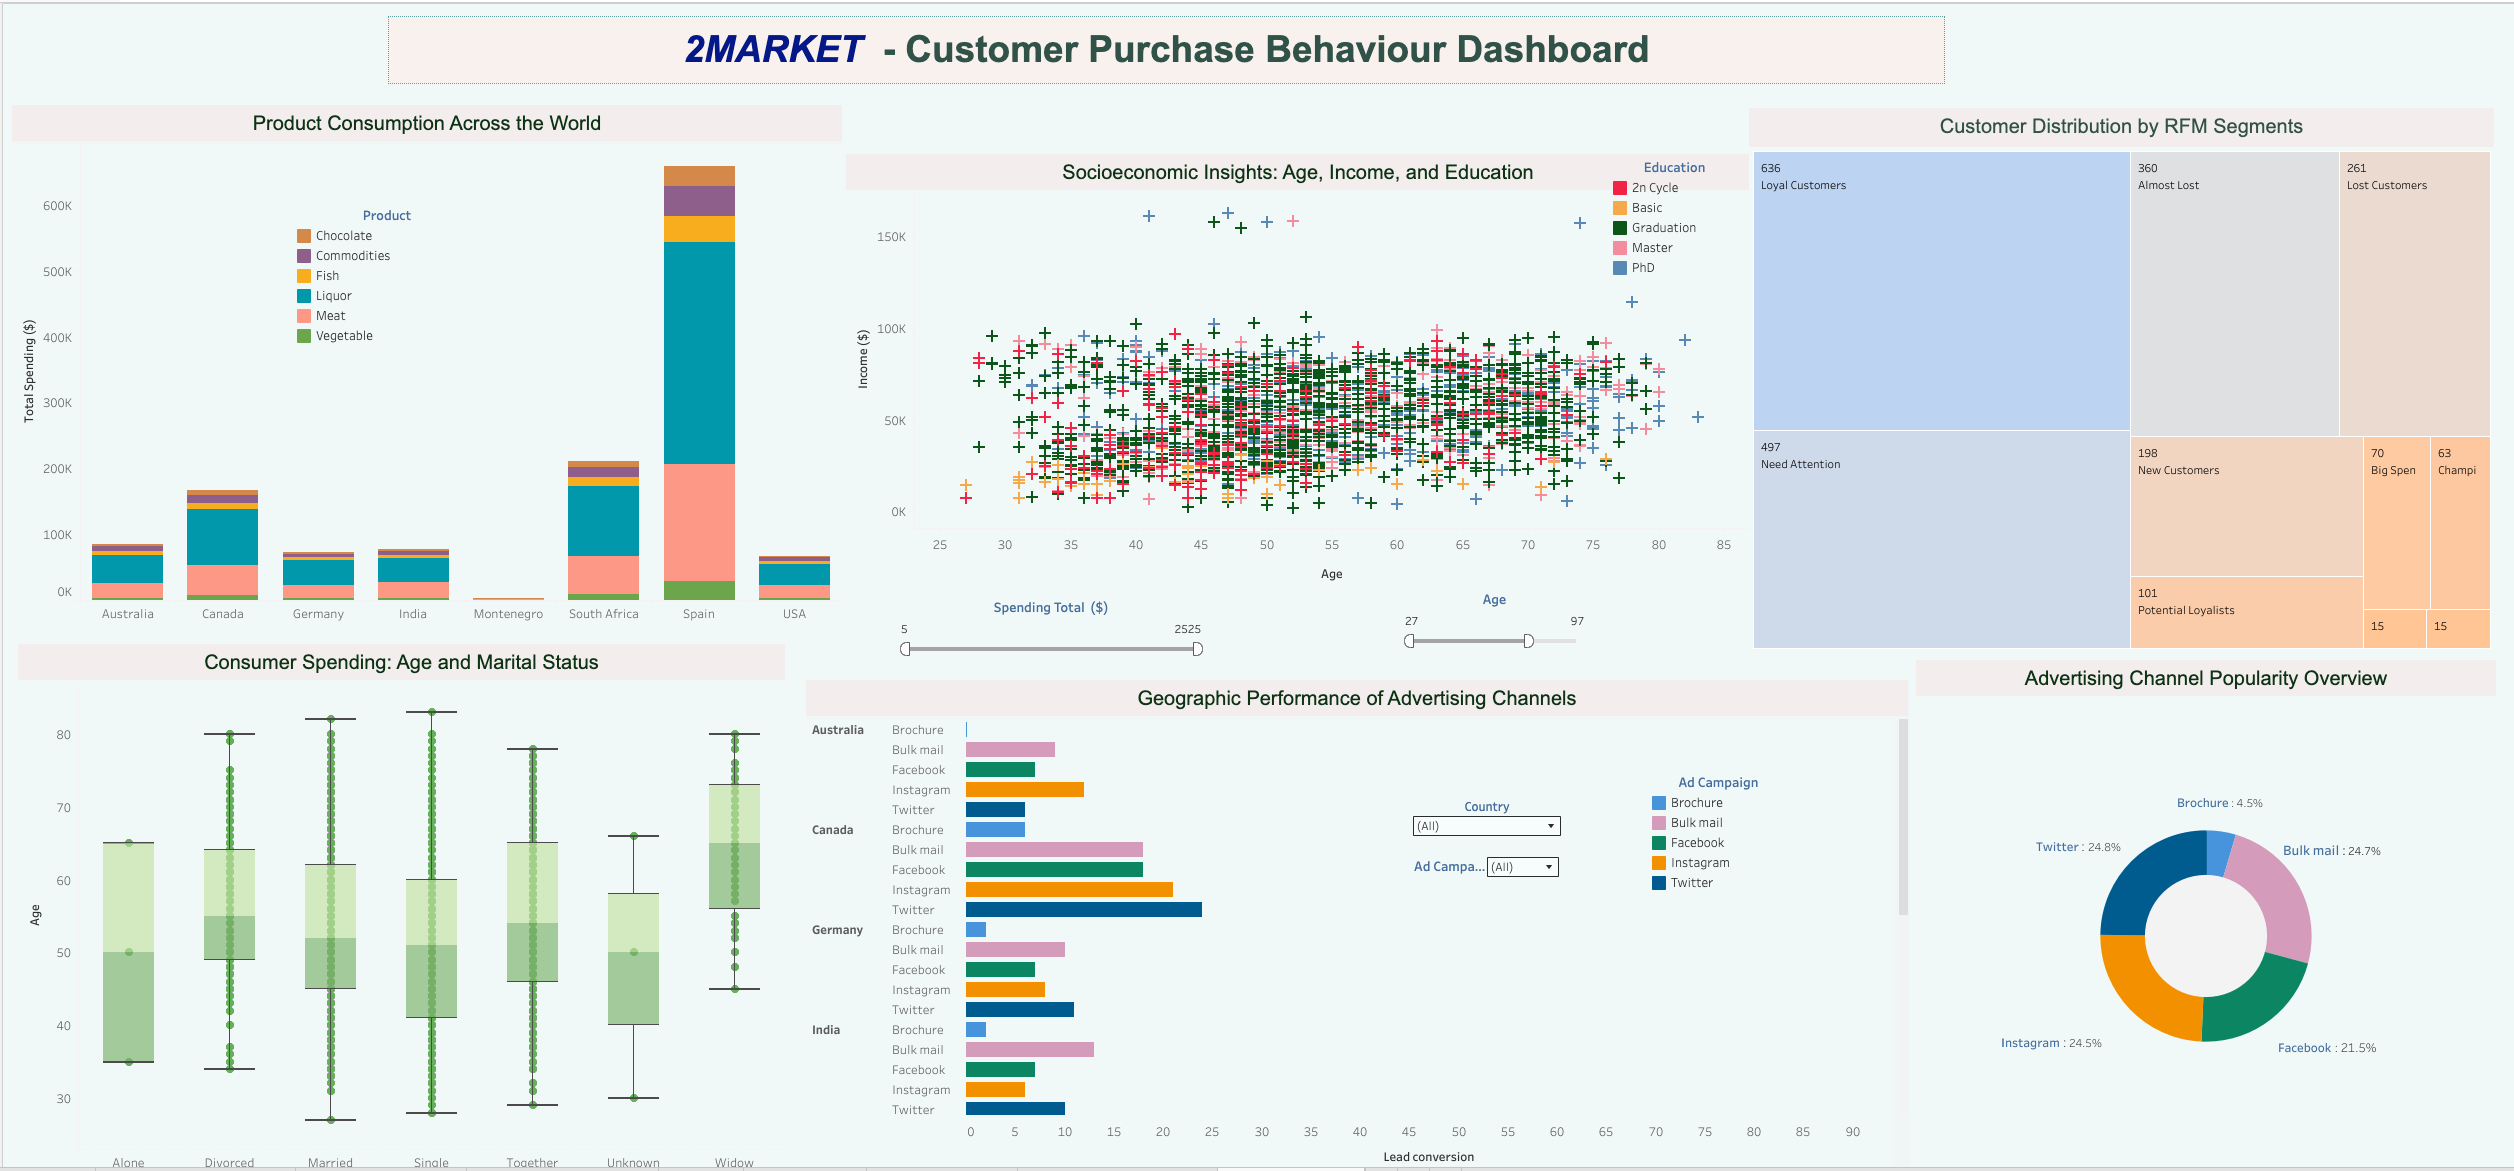

What the dashboard file says about the page in this screenshot:
{"tool":"tableau","page":{"name":"2Market Dashboard","canvas":[1200,900],"ordinal":0},"visuals":[{"type":"text","box":[109,7,991,63]},{"type":"worksheet","title":"Total spending vs product vs country","mark":"Automatic","rows":["Pivot Field Values"],"cols":["country"],"box":[4.3,76.1,396.6,402.5]},{"type":"worksheet","title":"Age vs Income vs Education","mark":"Automatic","rows":["income"],"cols":["age"],"box":[403,77,432,322]},{"type":"worksheet","title":"Customer Distribution by RFM Segments","mark":"Automatic","box":[834.3,78.5,356.2,408.8]},{"type":"legend","title":"Total spending vs product vs country","param":"[federated.1v18f5d1btfeaf1bb2xqi0sb1814].[none:Pivot Field Names:nk]","box":[139.3,151.7,88.5,115.5]},{"type":"filter","title":"Age vs Marital Stat vs Spending","param":"[federated.1v18f5d1btfeaf1bb2xqi0sb1814].[none:age:qk]","box":[708,413,89,82]},{"type":"filter","title":"Age vs Marital Stat vs Spending","param":"[federated.1v18f5d1btfeaf1bb2xqi0sb1814].[none:total_spent:qk]","box":[421,420,156,58]},{"type":"worksheet","title":"Age vs Marital Stat vs Spending","mark":"Circle","rows":["age"],"cols":["marital_status"],"box":[7.3,481.9,366.4,396.5]},{"type":"worksheet","title":"Ad Doughnut Chart ","mark":"Pie","rows":["Calculation_5880786350867685377","Calculation_5880786350867709955"],"box":[914.1,493.5,277.2,386.5]},{"type":"worksheet","title":"Ad vs country Bar Graph","mark":"Automatic","rows":["country","Pivot Field Names"],"cols":["Pivot Field Values"],"box":[383.8,508.9,527.4,370.3]},{"type":"legend","title":"Ad vs country Bar Graph","param":"[federated.1v18f5d1btfeaf1bb2xqi0sb1814 (copy)].[none:Pivot Field Names:nk]","box":[786,579,98,173]},{"type":"filter","title":"Ad vs country Bar Graph","param":"[federated.1v18f5d1btfeaf1bb2xqi0sb1814 (copy)].[none:country:nk]","box":[675,584,72,49]}]}

Visuals, with their boxes on the page's 1200x900 design canvas (x1, y1, x2, y2). These are canvas units, not pixel positions in the 2514x1171 screenshot, which may show the page scaled, cropped or inside an application window:
text: box=[109, 7, 1100, 70]
"Total spending vs product vs country" worksheet: box=[4, 76, 401, 479]
"Age vs Income vs Education" worksheet: box=[403, 77, 835, 399]
"Customer Distribution by RFM Segments" worksheet: box=[834, 78, 1190, 487]
"Total spending vs product vs country" legend: box=[139, 152, 228, 267]
"Age vs Marital Stat vs Spending" filter: box=[708, 413, 797, 495]
"Age vs Marital Stat vs Spending" filter: box=[421, 420, 577, 478]
"Age vs Marital Stat vs Spending" worksheet (Circle marks): box=[7, 482, 374, 878]
"Ad Doughnut Chart " worksheet (Pie marks): box=[914, 494, 1191, 880]
"Ad vs country Bar Graph" worksheet: box=[384, 509, 911, 879]
"Ad vs country Bar Graph" legend: box=[786, 579, 884, 752]
"Ad vs country Bar Graph" filter: box=[675, 584, 747, 633]
